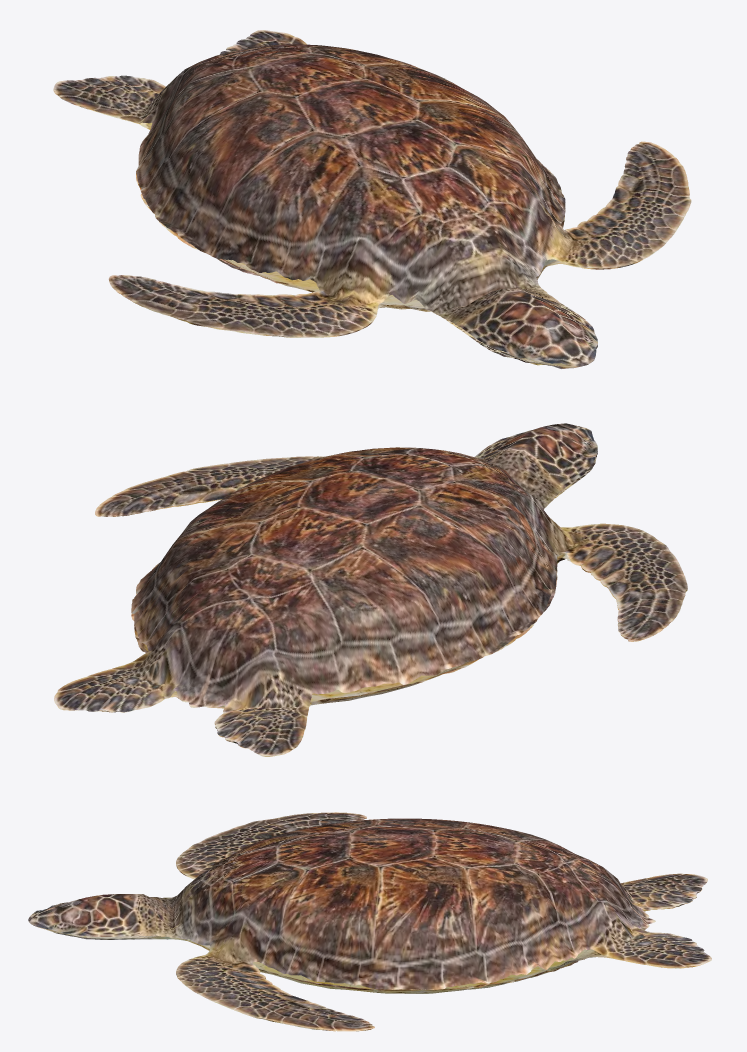
Rendered from ocean-seaturtle.glb.
The picture shows the model from 3 angles, top to bottom: view 1: azimuth 30°, elevation 25°; view 2: azimuth 150°, elevation 25°; view 3: azimuth 270°, elevation 25°; orthographic projection. The views are drawn at different scales.
Visible parts, largest first — view 1: sea_turtle; view 2: sea_turtle; view 3: sea_turtle.
Boxes of the visible parts, x1,y1,x2,y2 form: sea_turtle: [53, 30, 691, 368]; sea_turtle: [54, 423, 687, 756]; sea_turtle: [28, 812, 711, 1031].
Bounding box in the file's own units: 1.43 × 0.2999 × 1.83.
Materials: 1 (1 with a texture image).
